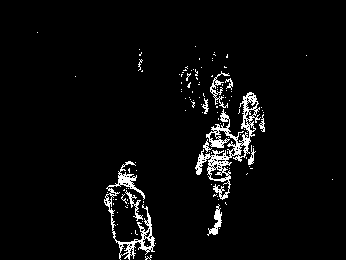person: (195, 114, 241, 236), (103, 161, 156, 260), (238, 92, 266, 168), (212, 65, 234, 111)
